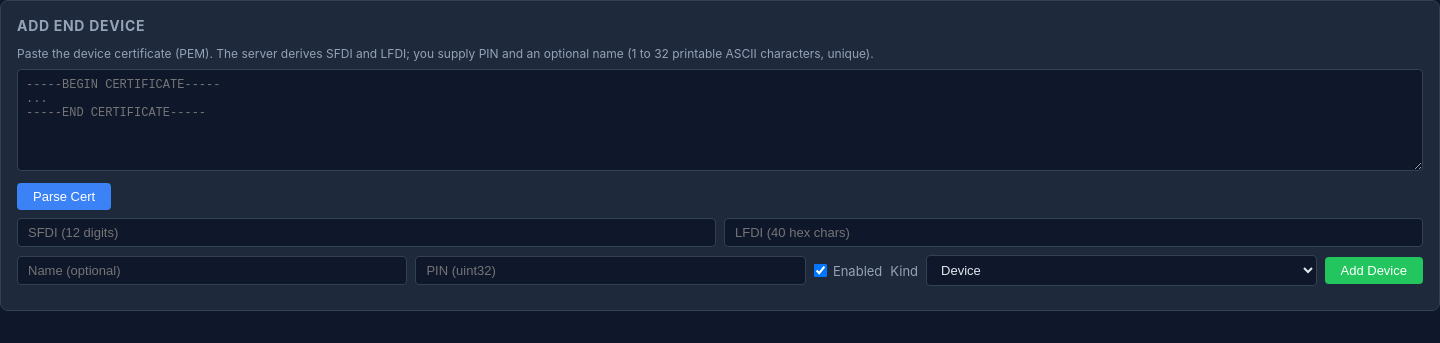
Test: AddDevice › refuses to register before a cert is parsed rather than posting a blank identity
Click the button "Add Device" at (1374, 270), box top-left (1324, 257), bottom-right (1423, 284)
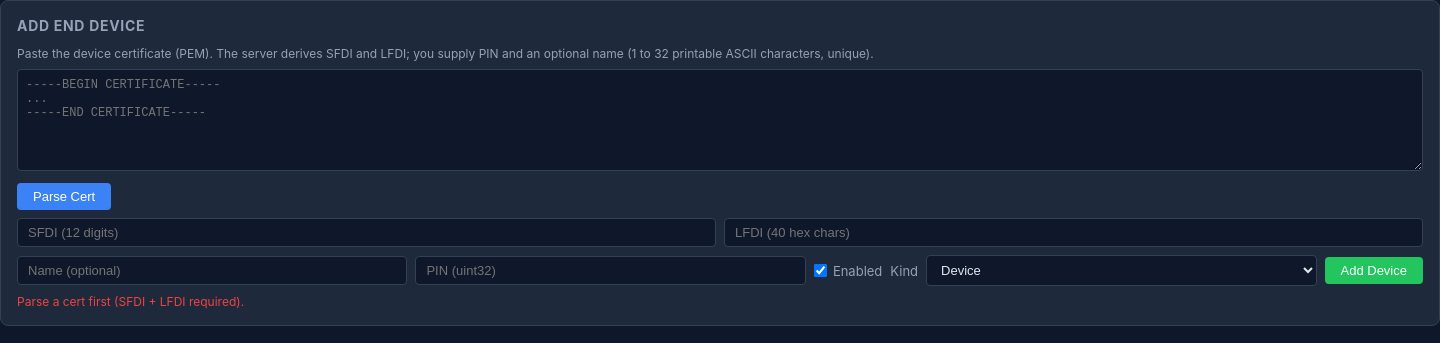
Now the text with id "addDevResult" reads "Parse a cert first (SFDI + LFDI required).", box top-left (17, 294), bottom-right (244, 309)
